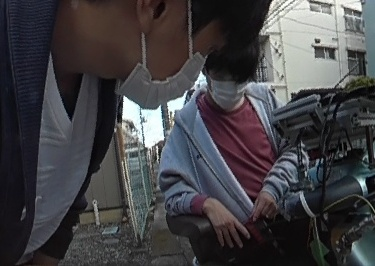person: (163, 26, 293, 250)
